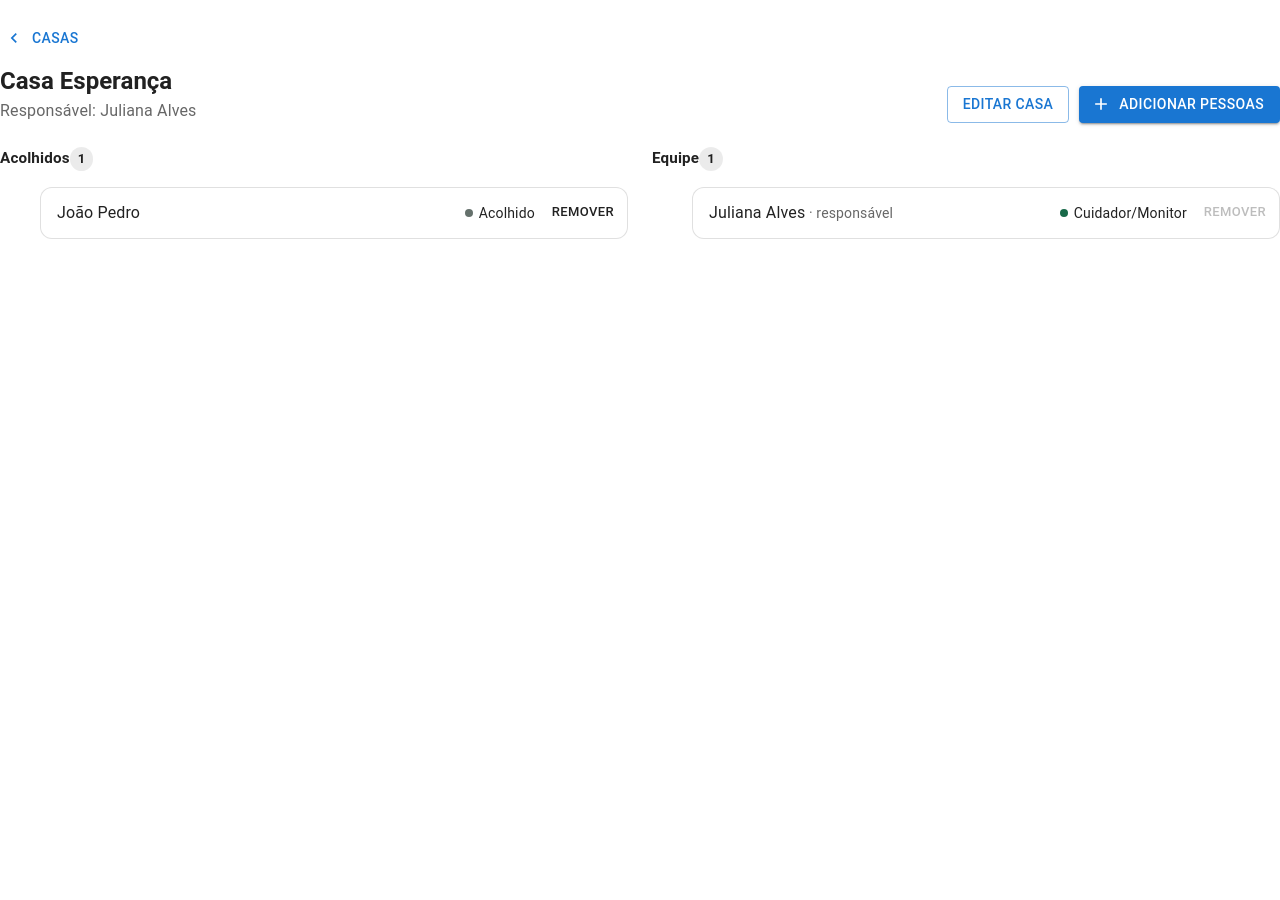
Test: HomeDetailPage › adiciona várias pessoas de uma vez, só entre quem ainda não está na casa
The width and height of the screenshot is (1280, 900).
Click the button "Adicionar pessoas": (1180, 104) top-left (1079, 86), bottom-right (1279, 122)
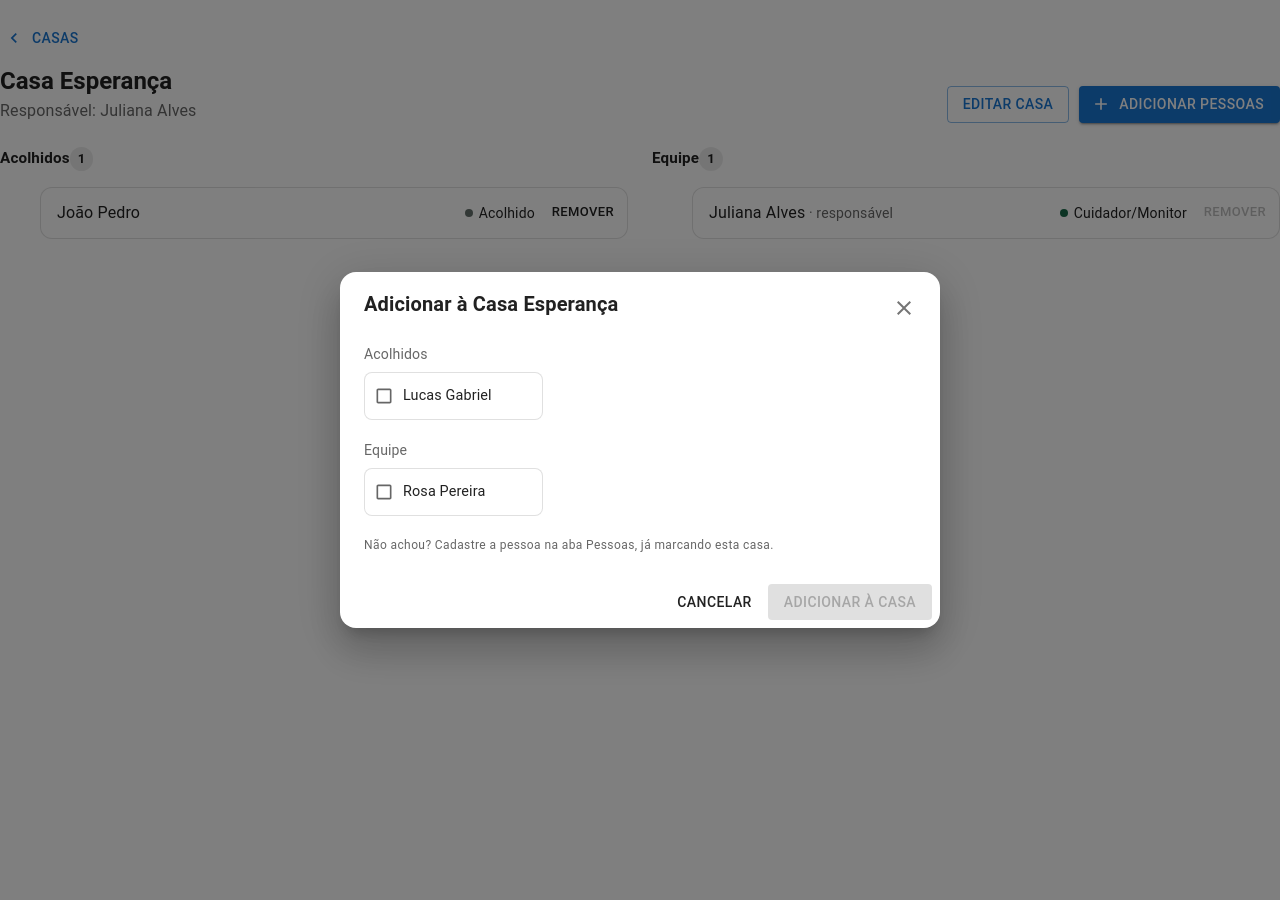
Click the checkbox labelled "Lucas Gabriel": (453, 396) top-left (364, 372), bottom-right (543, 420)
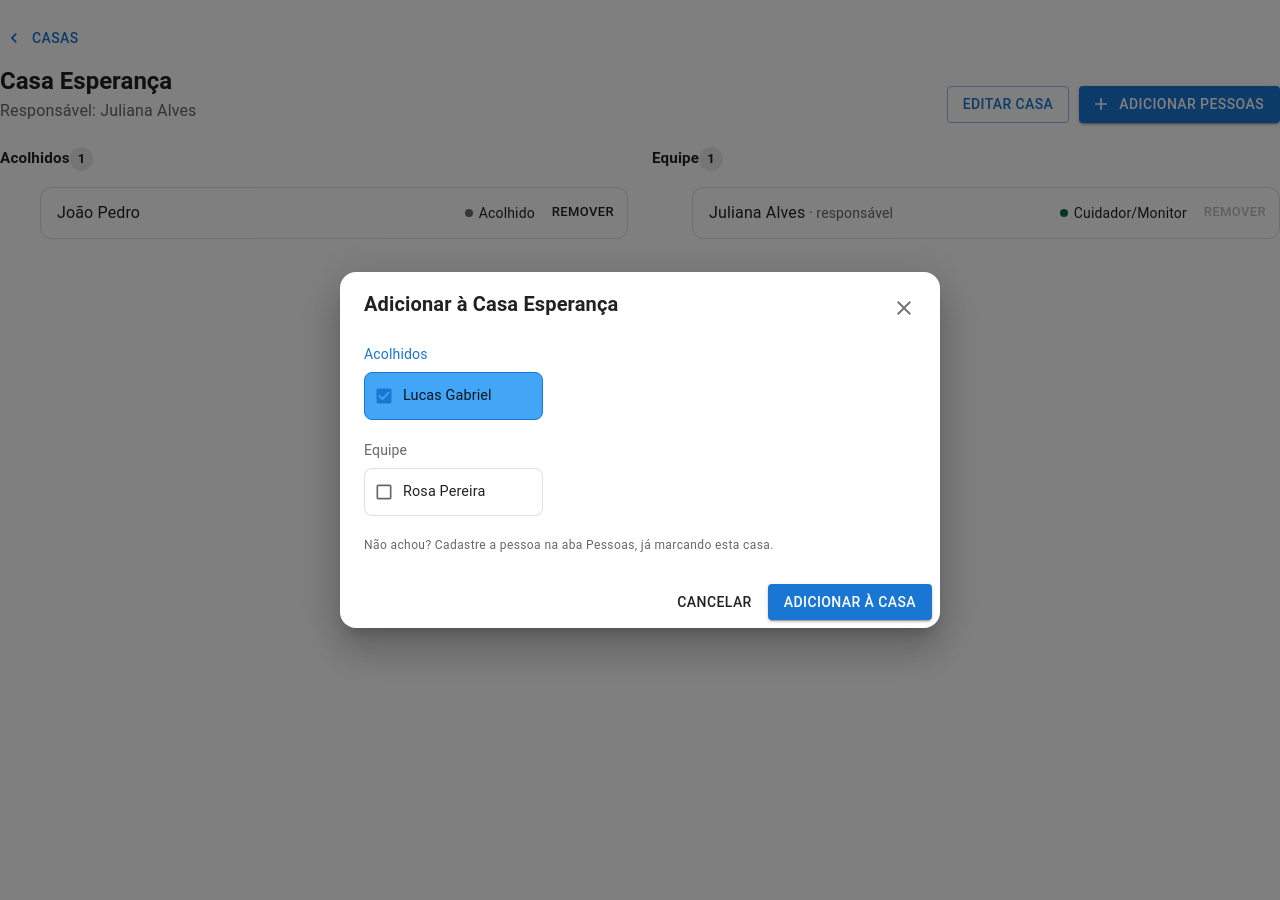
Click the checkbox labelled "Rosa Pereira": (453, 492) top-left (364, 468), bottom-right (543, 516)
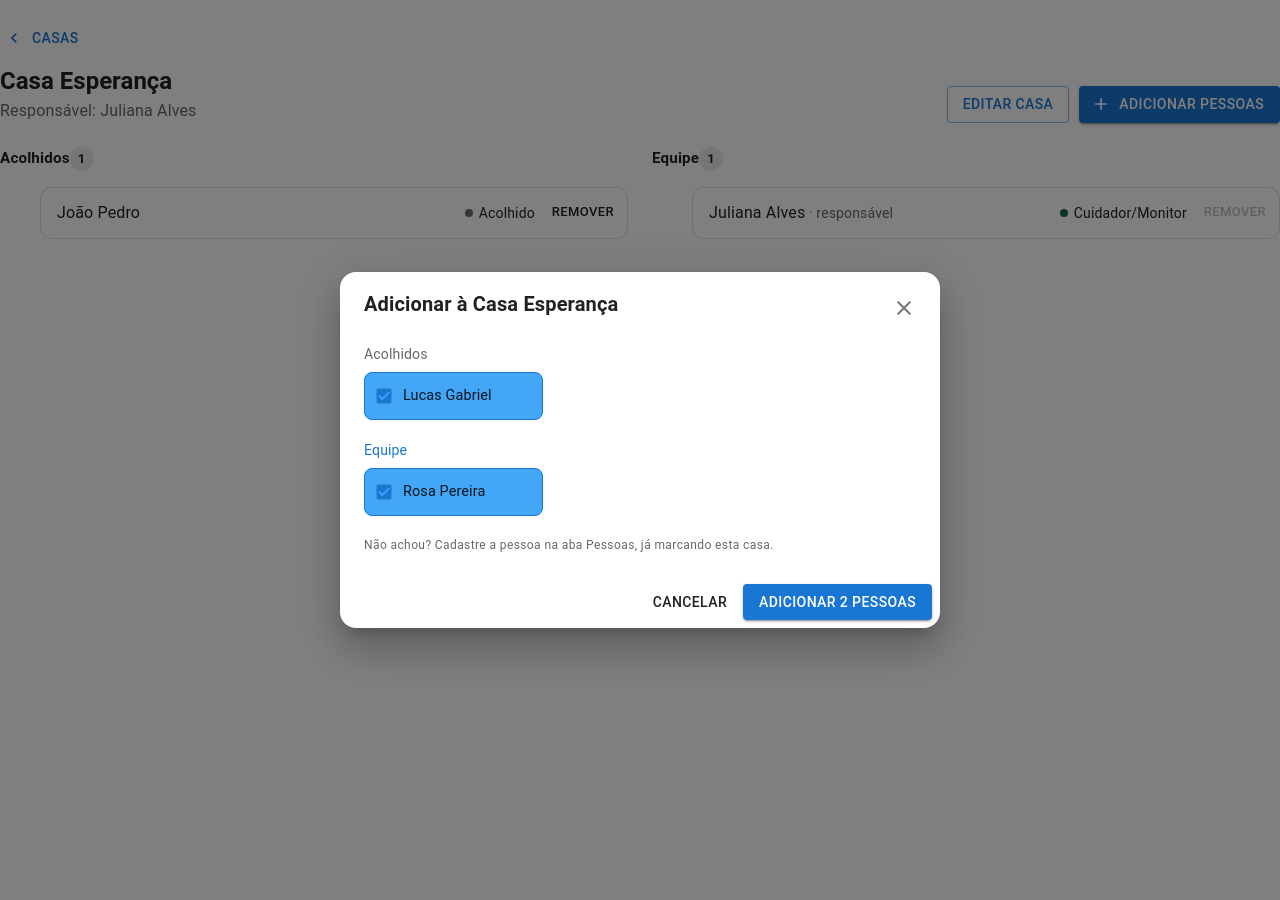
Click the button "Adicionar 2 pessoas": (838, 602) top-left (743, 584), bottom-right (932, 620)
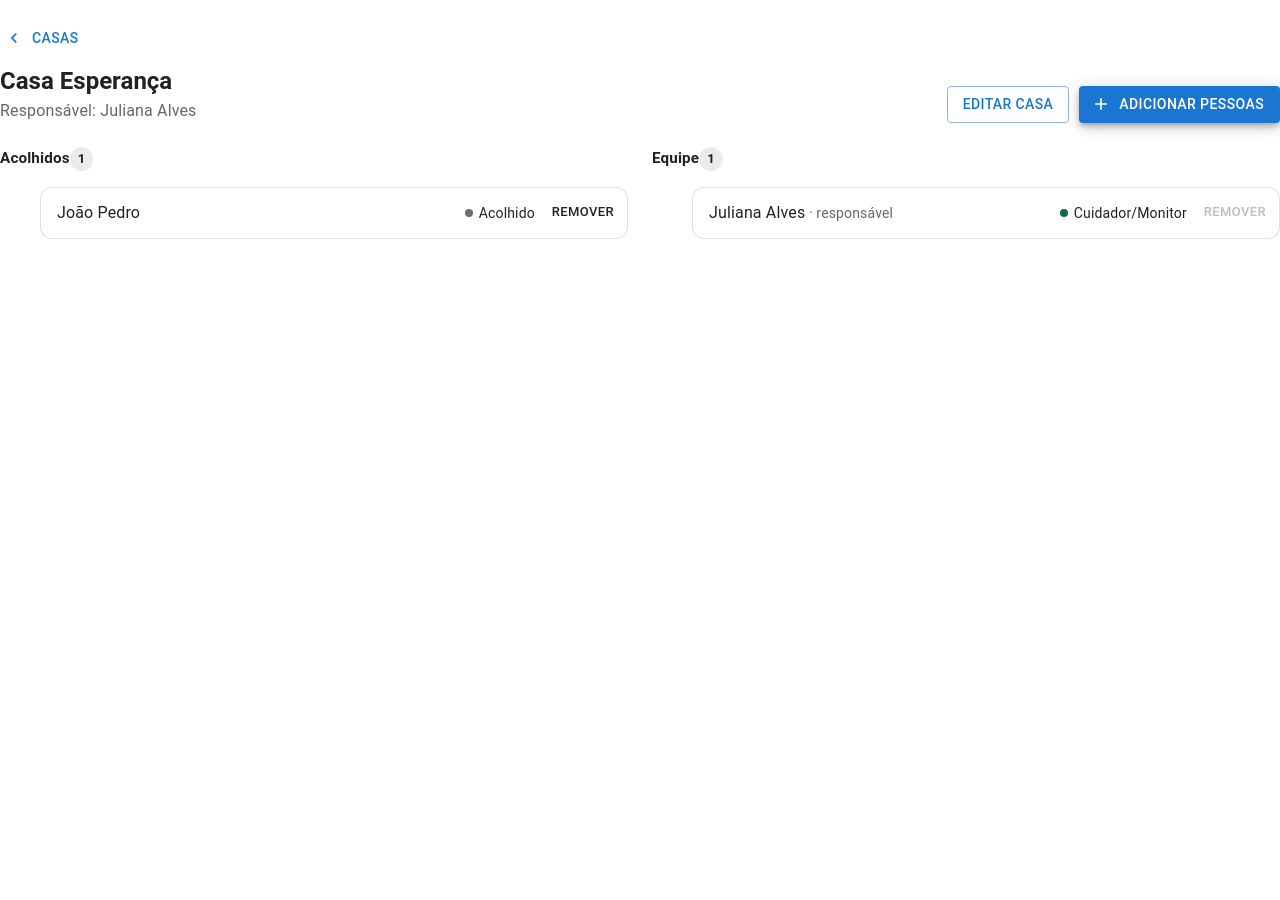
Check: the dialog is gone
